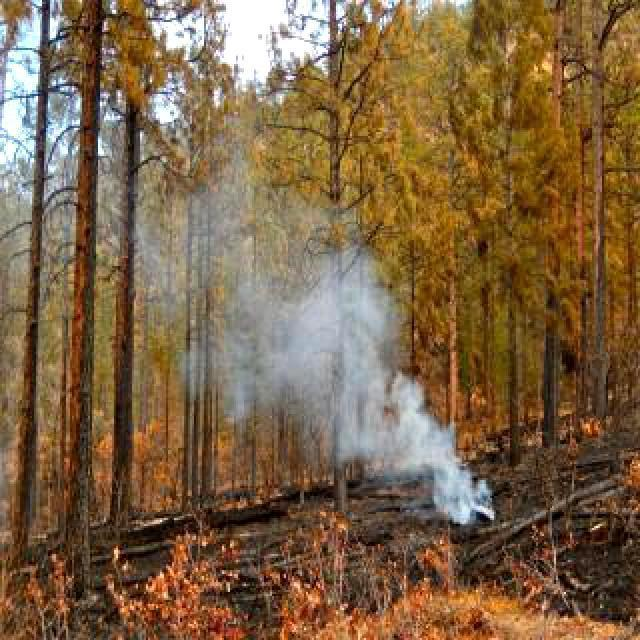Smoke: (175, 200, 487, 518)
